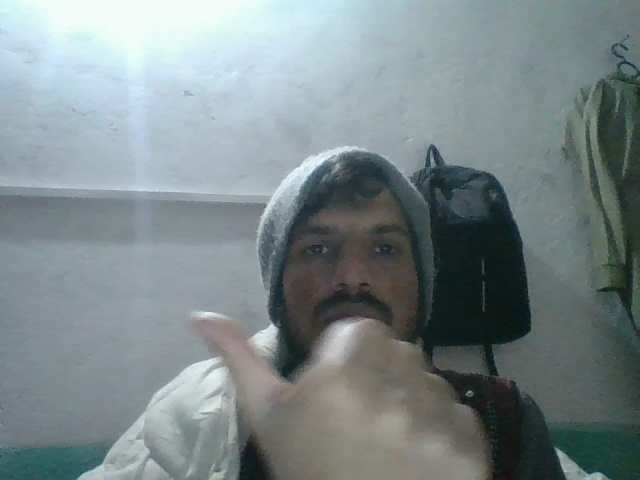ThumbsUp: (173, 304, 498, 480)
